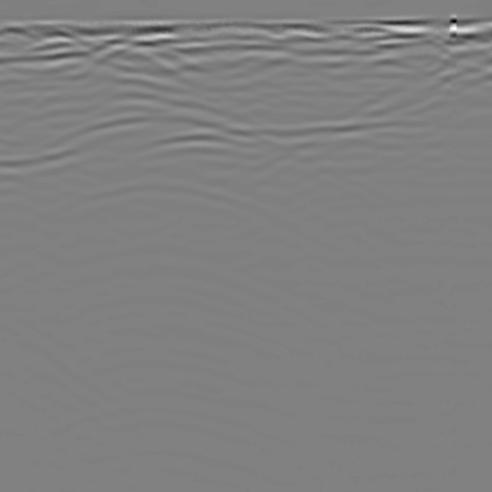hyperbola: (7, 97, 311, 221)
